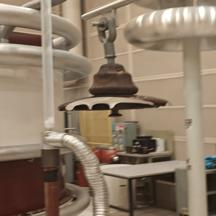insulator: (54, 59, 177, 123)
